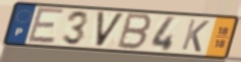3: (62, 10, 92, 47)
4: (150, 15, 175, 54)
B: (114, 12, 155, 52)
E: (25, 6, 66, 45)
K: (180, 18, 212, 54)
V: (95, 10, 127, 49)
